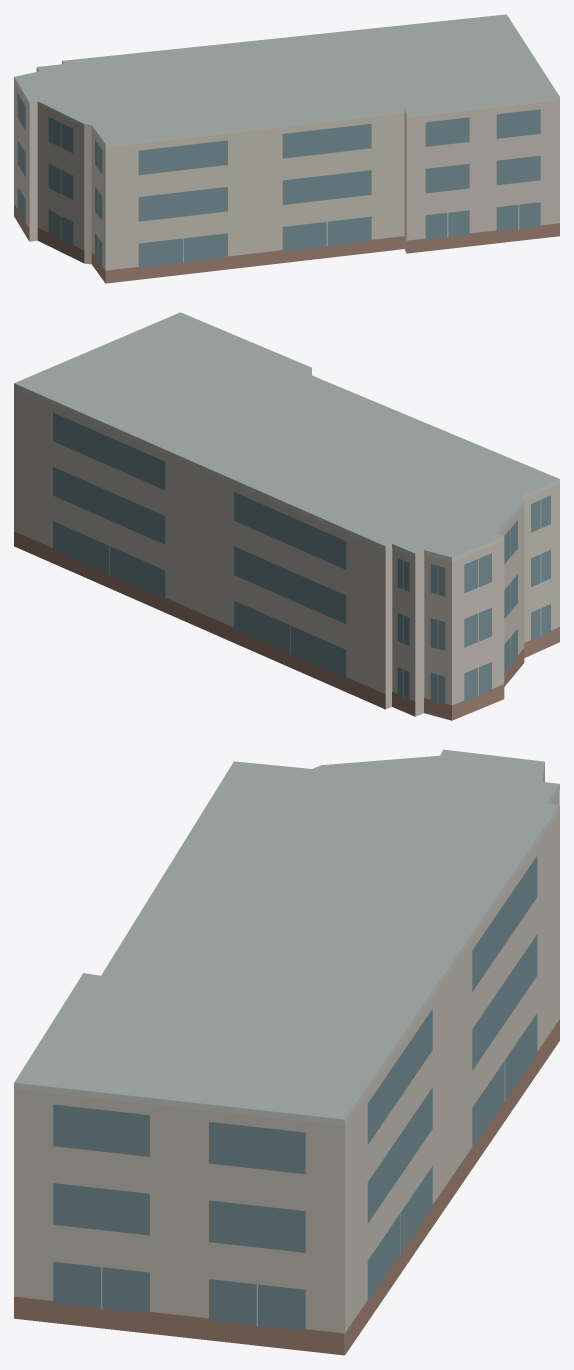
File: survey-upis-32800101.glb
The picture shows the model from 3 angles, top to bottom: view 1: azimuth 30°, elevation 25°; view 2: azimuth 150°, elevation 25°; view 3: azimuth 270°, elevation 25°; orthographic projection. The views are drawn at different scales.
Visible parts, largest first — view 1: survey-upis-32800101.tmp; view 2: survey-upis-32800101.tmp; view 3: survey-upis-32800101.tmp.
Boxes of the visible parts, bbox=[...] form: survey-upis-32800101.tmp: bbox=[14, 14, 559, 283]; survey-upis-32800101.tmp: bbox=[14, 312, 559, 720]; survey-upis-32800101.tmp: bbox=[14, 749, 559, 1355].
Bounding box in the file's own units: 30.79 × 9.15 × 19.2.
